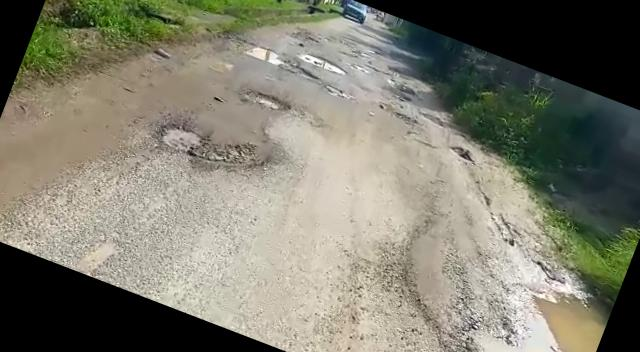pothole: (436, 257, 614, 352), (152, 110, 259, 179), (225, 34, 288, 69), (240, 84, 294, 117), (292, 48, 348, 76)
